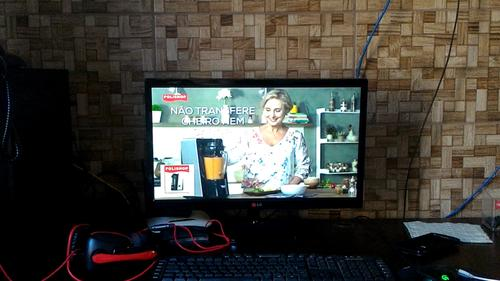Polishop #1: (159, 163, 194, 195)
